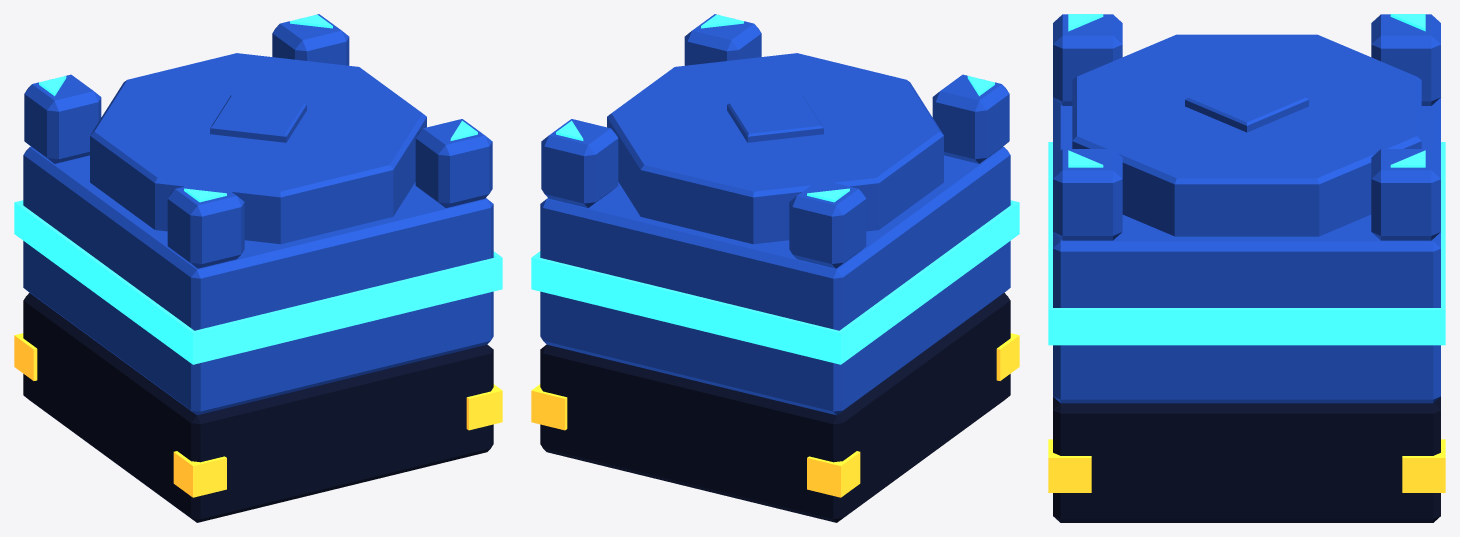
File: platform_tile_v2_concept.glb
The picture shows the model from 3 angles, left to right: view 1: azimuth 30°, elevation 25°; view 2: azimuth 150°, elevation 25°; view 3: azimuth 270°, elevation 25°; orthographic projection. The views are drawn at different scales.
Visible parts, largest first — view 1: Tile_Blue, Tile_Navy, Tile_Cyan, Tile_Orange; view 2: Tile_Blue, Tile_Navy, Tile_Cyan, Tile_Orange; view 3: Tile_Blue, Tile_Navy, Tile_Cyan, Tile_Orange.
Part boxes in pixels (x1=…): Tile_Blue: x1=23, y1=14, x2=493, y2=415; Tile_Navy: x1=23, y1=293, x2=493, y2=522; Tile_Cyan: x1=14, y1=14, x2=502, y2=364; Tile_Orange: x1=14, y1=333, x2=502, y2=497; Tile_Blue: x1=540, y1=14, x2=1010, y2=415; Tile_Navy: x1=540, y1=293, x2=1010, y2=522; Tile_Cyan: x1=531, y1=14, x2=1019, y2=364; Tile_Orange: x1=531, y1=333, x2=1019, y2=497; Tile_Blue: x1=1053, y1=14, x2=1440, y2=403; Tile_Navy: x1=1053, y1=397, x2=1440, y2=522; Tile_Cyan: x1=1048, y1=14, x2=1445, y2=345; Tile_Orange: x1=1048, y1=439, x2=1445, y2=492.
Bounding box in the file's own units: 1.02 × 1.01 × 1.02.
